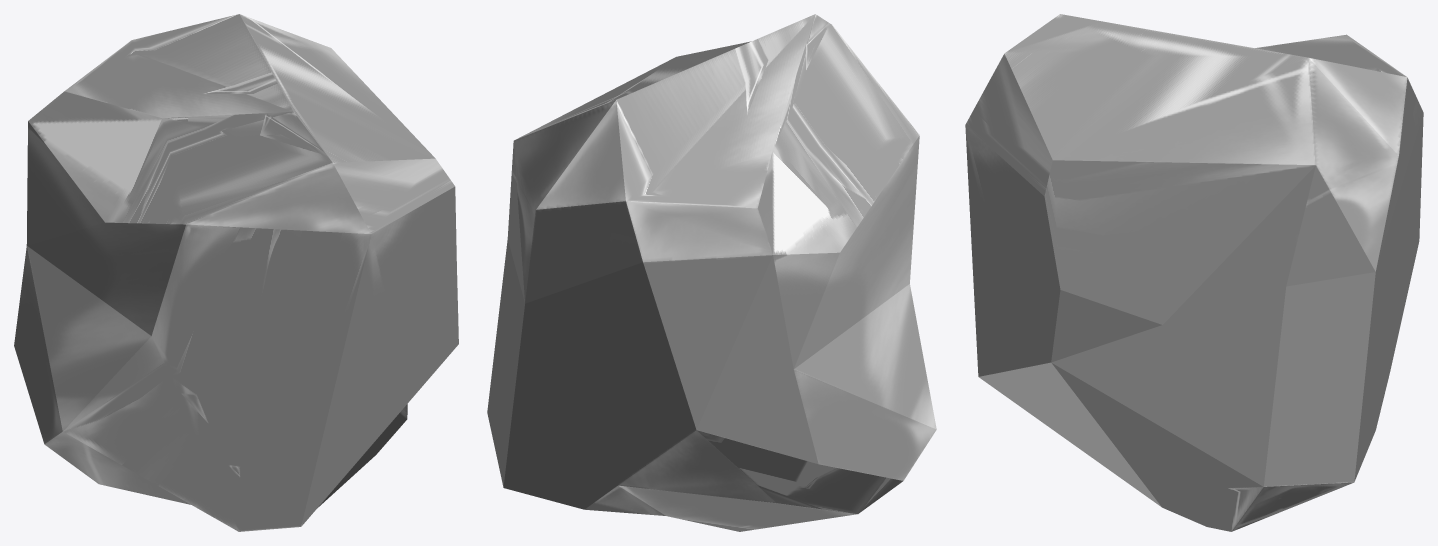
The model's file is stone1.fbx.
3 views of the same model, side by side, from view 1: azimuth 30°, elevation 25°; view 2: azimuth 150°, elevation 25°; view 3: azimuth 270°, elevation 25° (orthographic). The views are drawn at different scales.
Parts seen in each view (by area): view 1: Cube; view 2: Cube; view 3: Cube.
Part boxes in pixels (x1,y1,x2,y2): Cube: (14,14,458,531); Cube: (487,14,936,531); Cube: (965,14,1423,531).
Size of the model in its own units: 179 by 202 by 181.
